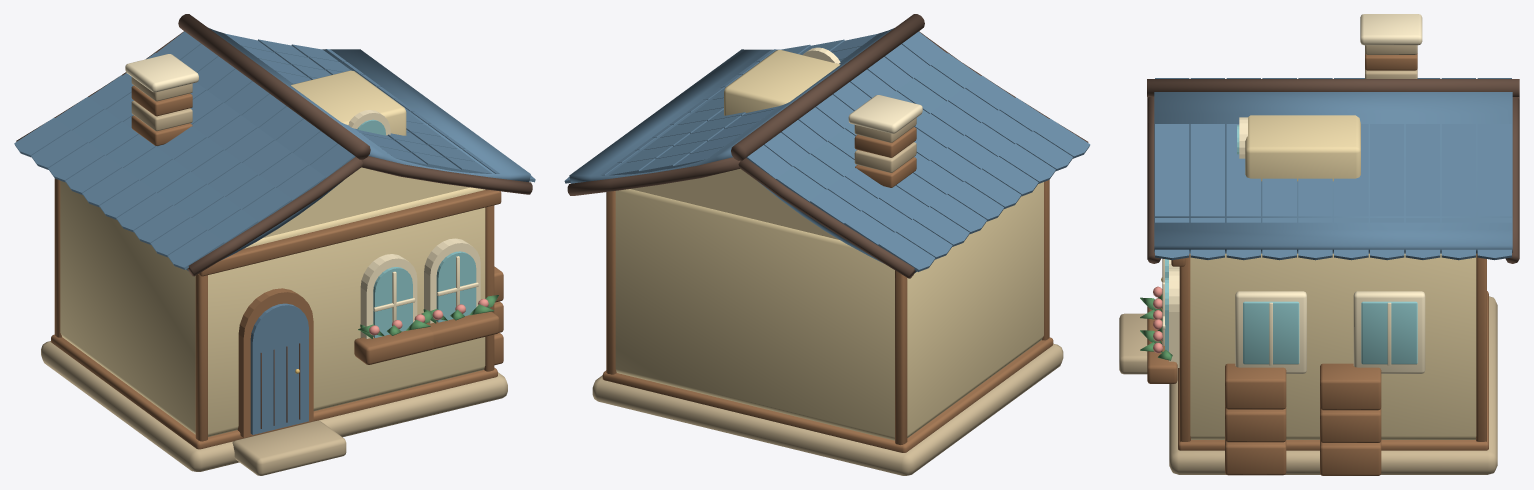
File: workshop.glb
3 renders of one model, left to right at view 1: azimuth 30°, elevation 25°; view 2: azimuth 150°, elevation 25°; view 3: azimuth 270°, elevation 25°, orthographic. The views are drawn at different scales.
Parts seen in each view (by area): view 1: workshop_crafted_mesh; view 2: workshop_crafted_mesh; view 3: workshop_crafted_mesh.
Part boxes in pixels (x1,y1,x2,y2): workshop_crafted_mesh: (14,14,535,475); workshop_crafted_mesh: (564,14,1090,475); workshop_crafted_mesh: (1119,14,1519,475).
Bounding box in the file's own units: 5.02 × 4.2 × 4.64.
